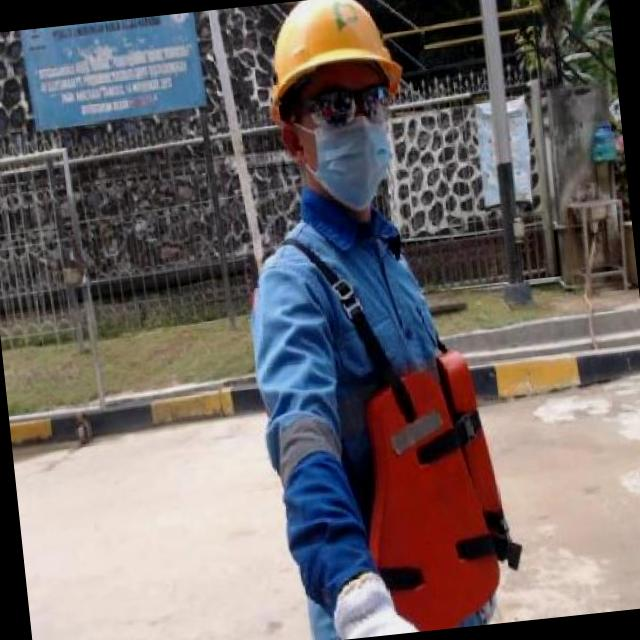helmet: (257, 0, 404, 119)
vest: (245, 198, 530, 640)
